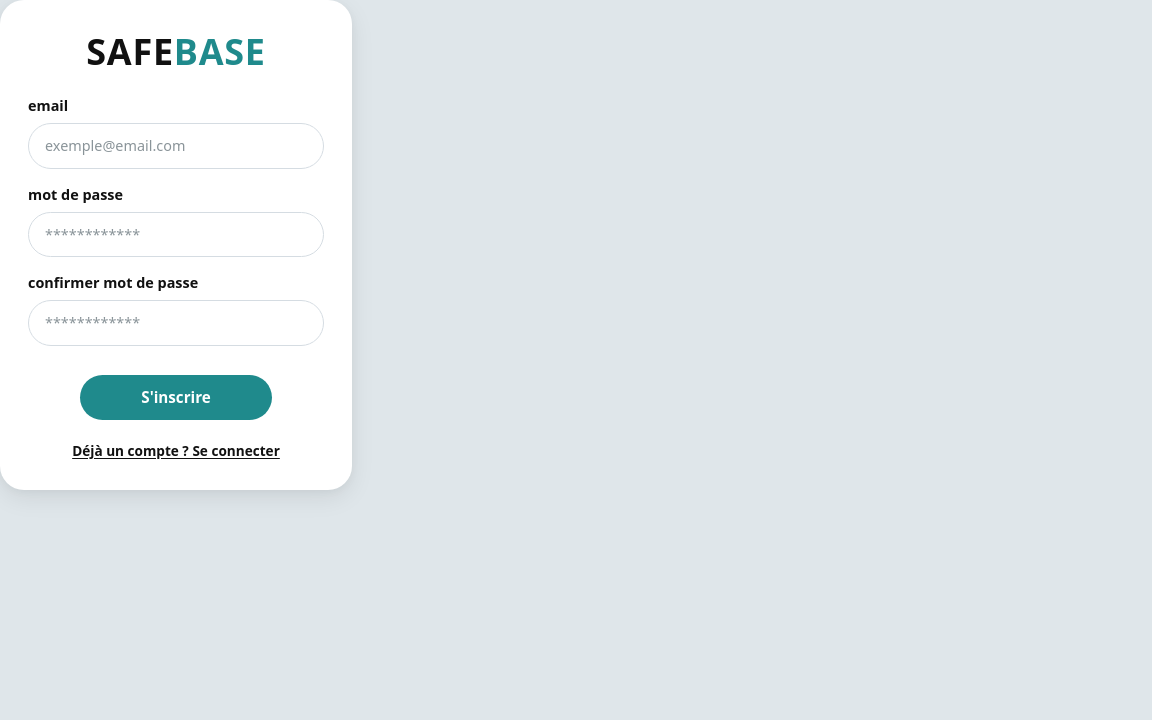
Test: signup › email already registered -> error message (US00-02)
This screenshot has width=1152, height=720.
Type "emma@safebase.dev" into the field labelled "email" at (176, 146), box [28,123,324,169]
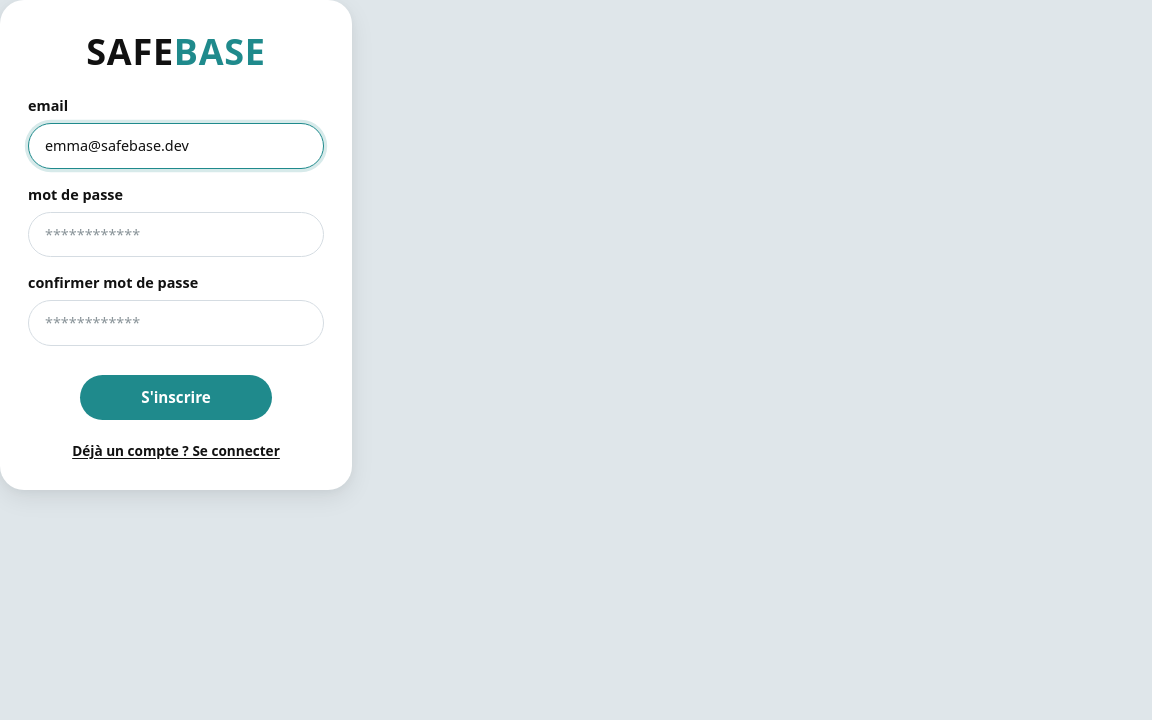
Type "secret123" into the password field labelled "mot de passe" at (176, 234), box [28,212,324,258]
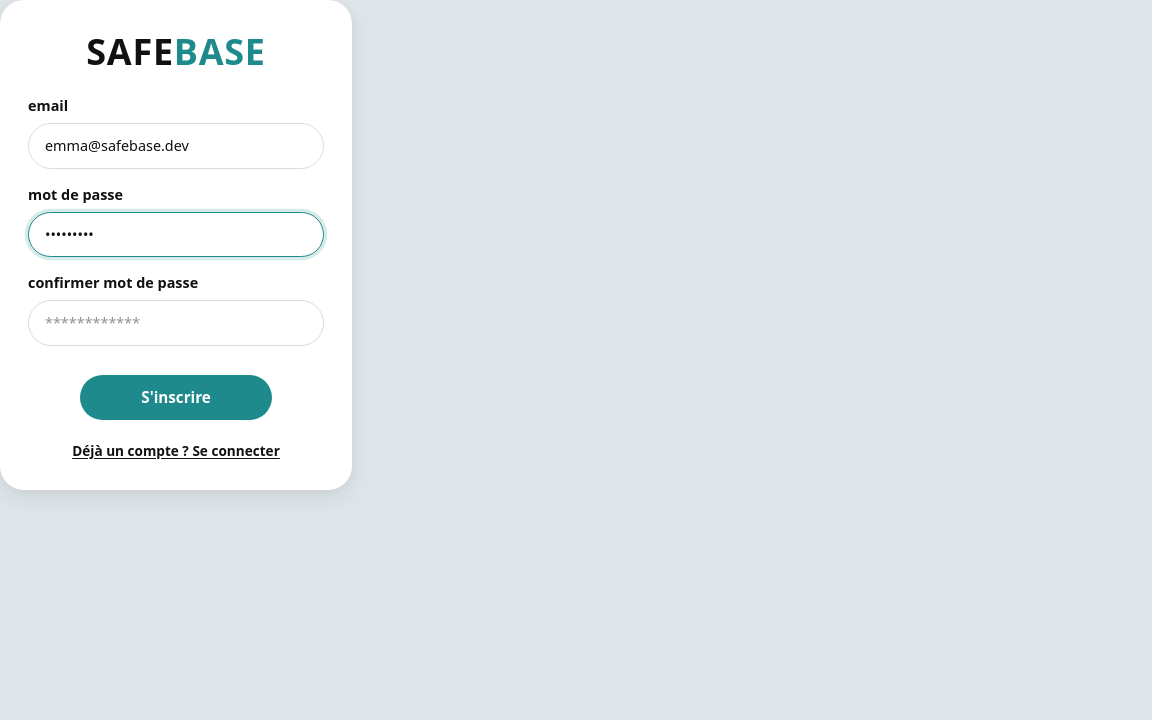
Type "secret123" into the password field labelled "confirmer mot de passe" at (176, 323), box [28,300,324,346]
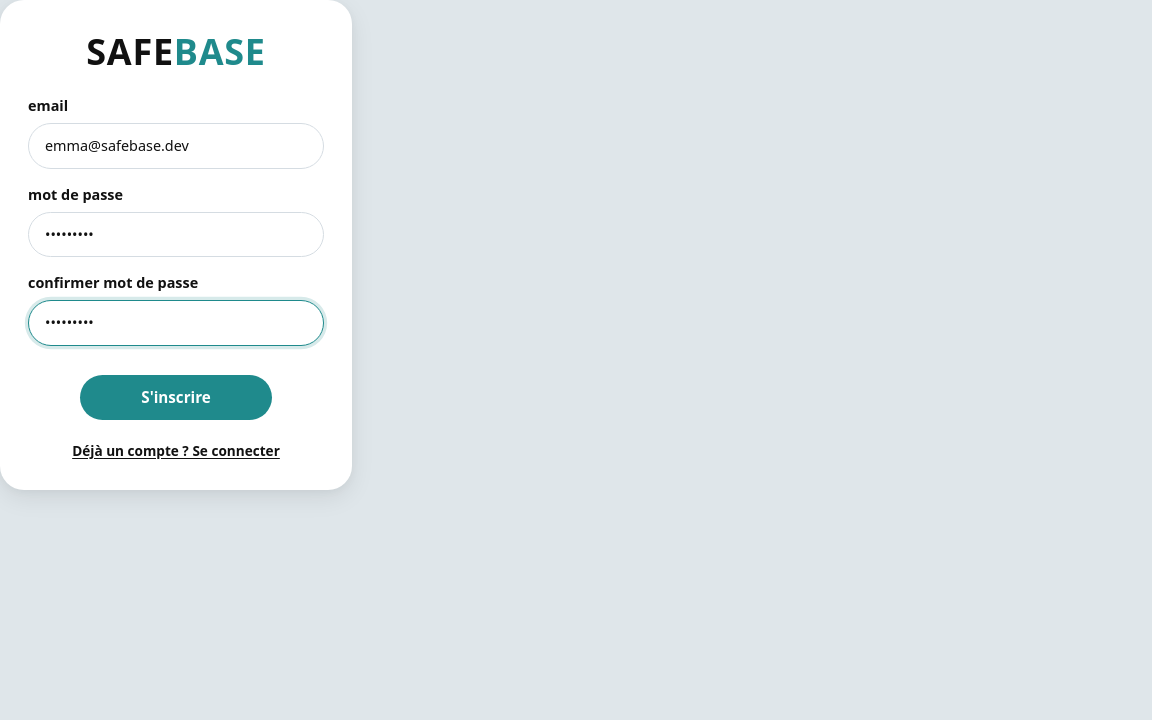
Click the button "S'inscrire" at (176, 397), box [80,375,272,420]
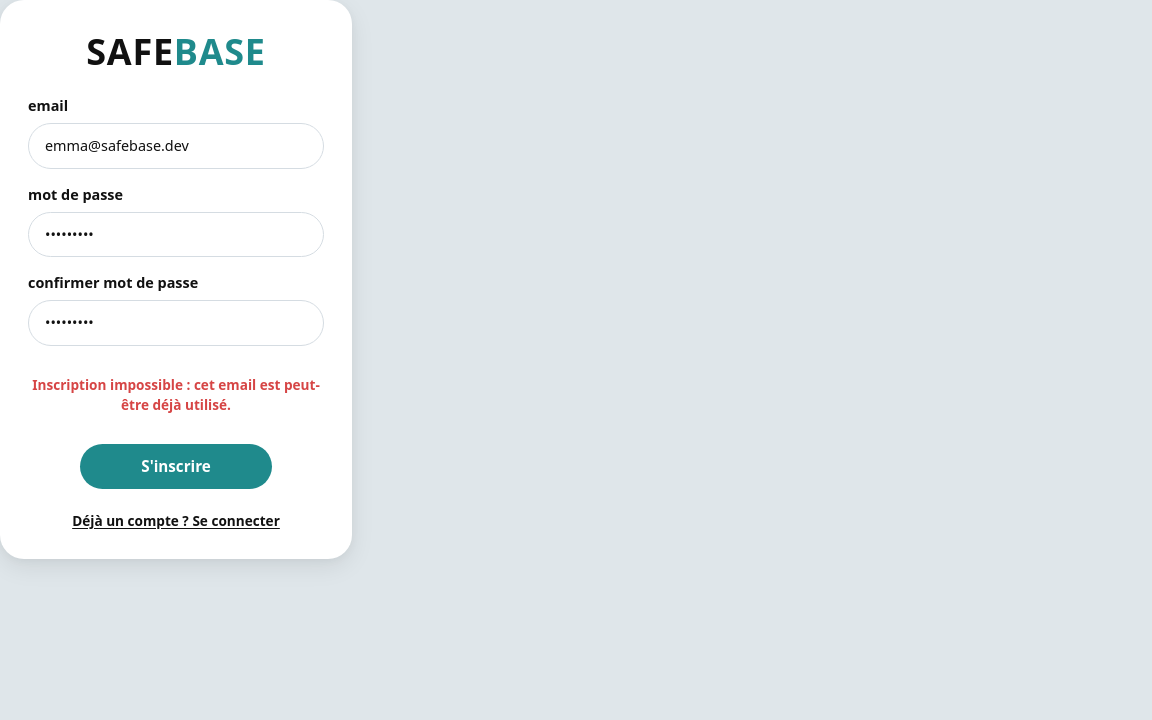
Expected: the text "Inscription impossible : cet email est peut-être déjà utilisé." is shown, [28,375,324,415]
